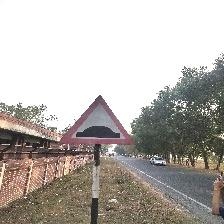Speed-breaker: (60, 97, 134, 145)
